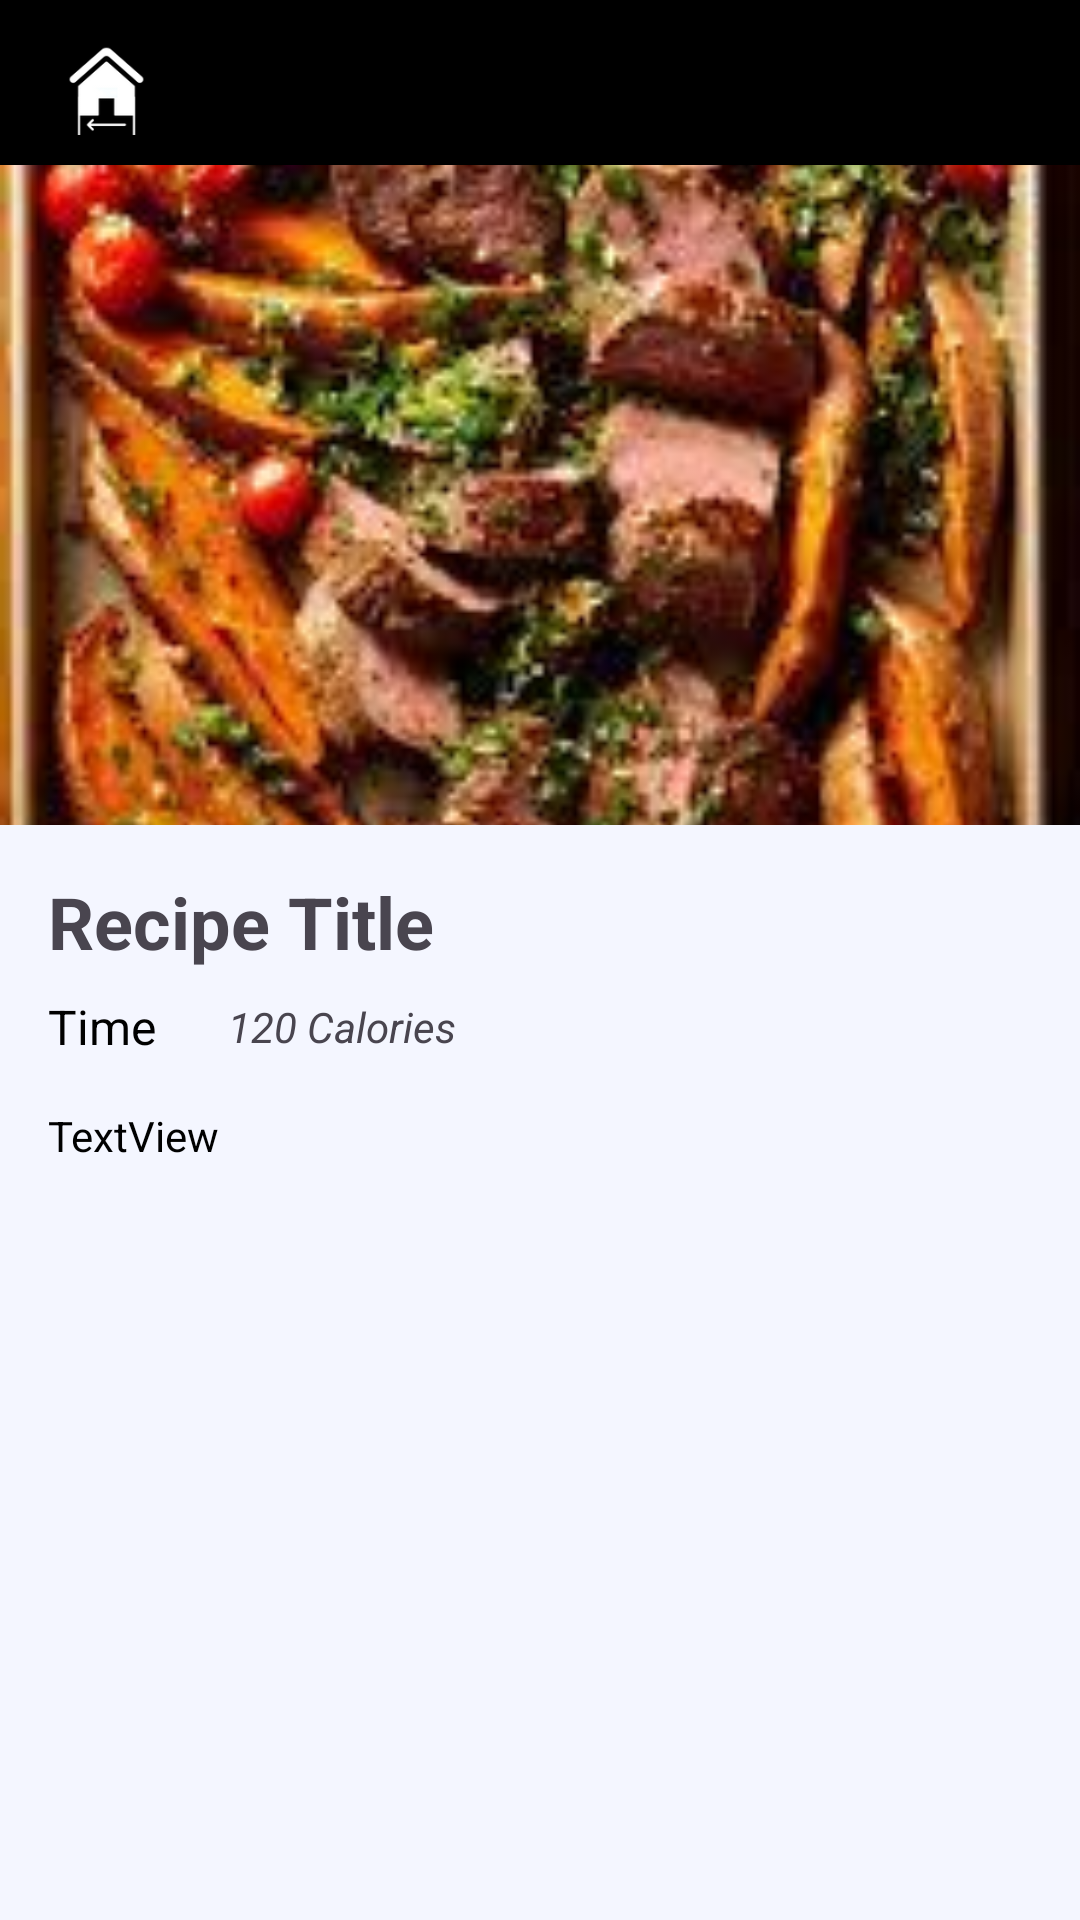

Icon click points for this 1080px x 1920px phone screenshot, format (x,y):
backhome: (106,91)
